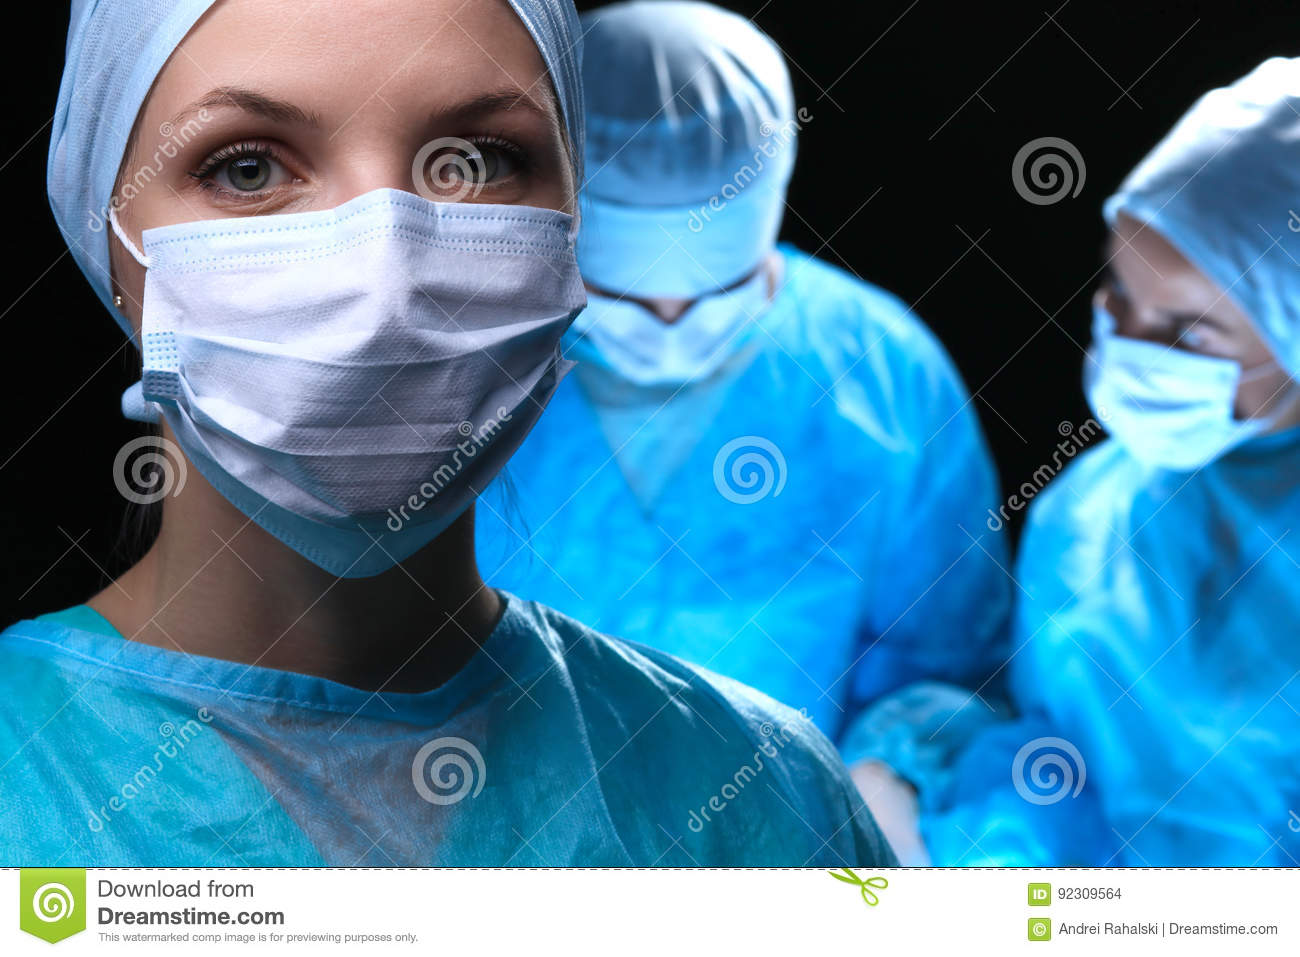mask: (142, 202, 556, 545)
